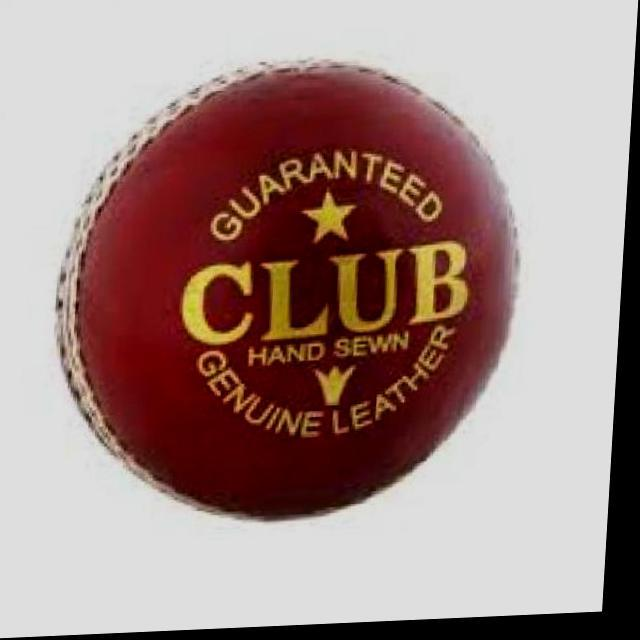-: (65, 68, 534, 521)
